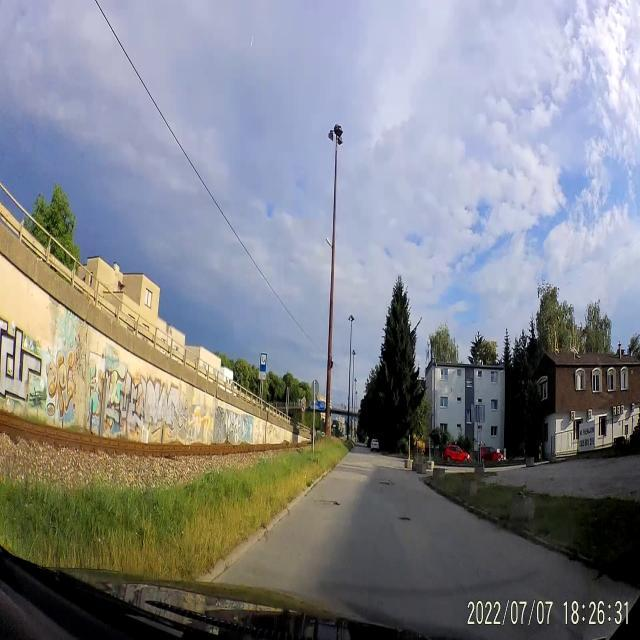Pothole: (307, 495, 342, 509), (392, 509, 413, 528), (376, 474, 394, 490)
